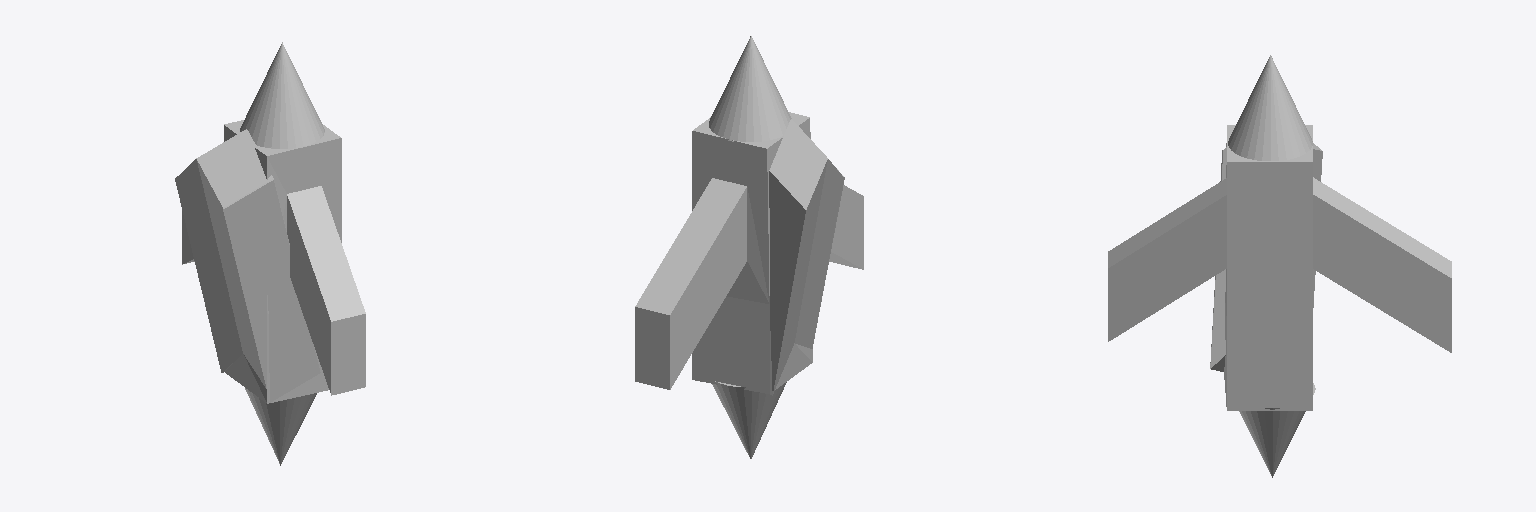
File: Smallrocket.obj
3 renders of one model, left to right at view 1: azimuth 30°, elevation 25°; view 2: azimuth 150°, elevation 25°; view 3: azimuth 270°, elevation 25°, orthographic.
Parts seen in each view (by area): view 1: Cone; view 2: Cone; view 3: Cone.
Boxes of the visible parts, x1=… form: Cone: x1=175, y1=42, x2=365, y2=465; Cone: x1=635, y1=36, x2=863, y2=458; Cone: x1=1108, y1=55, x2=1451, y2=477.
Size of the model in its own units: 0.7823 by 2.65 by 1.94.